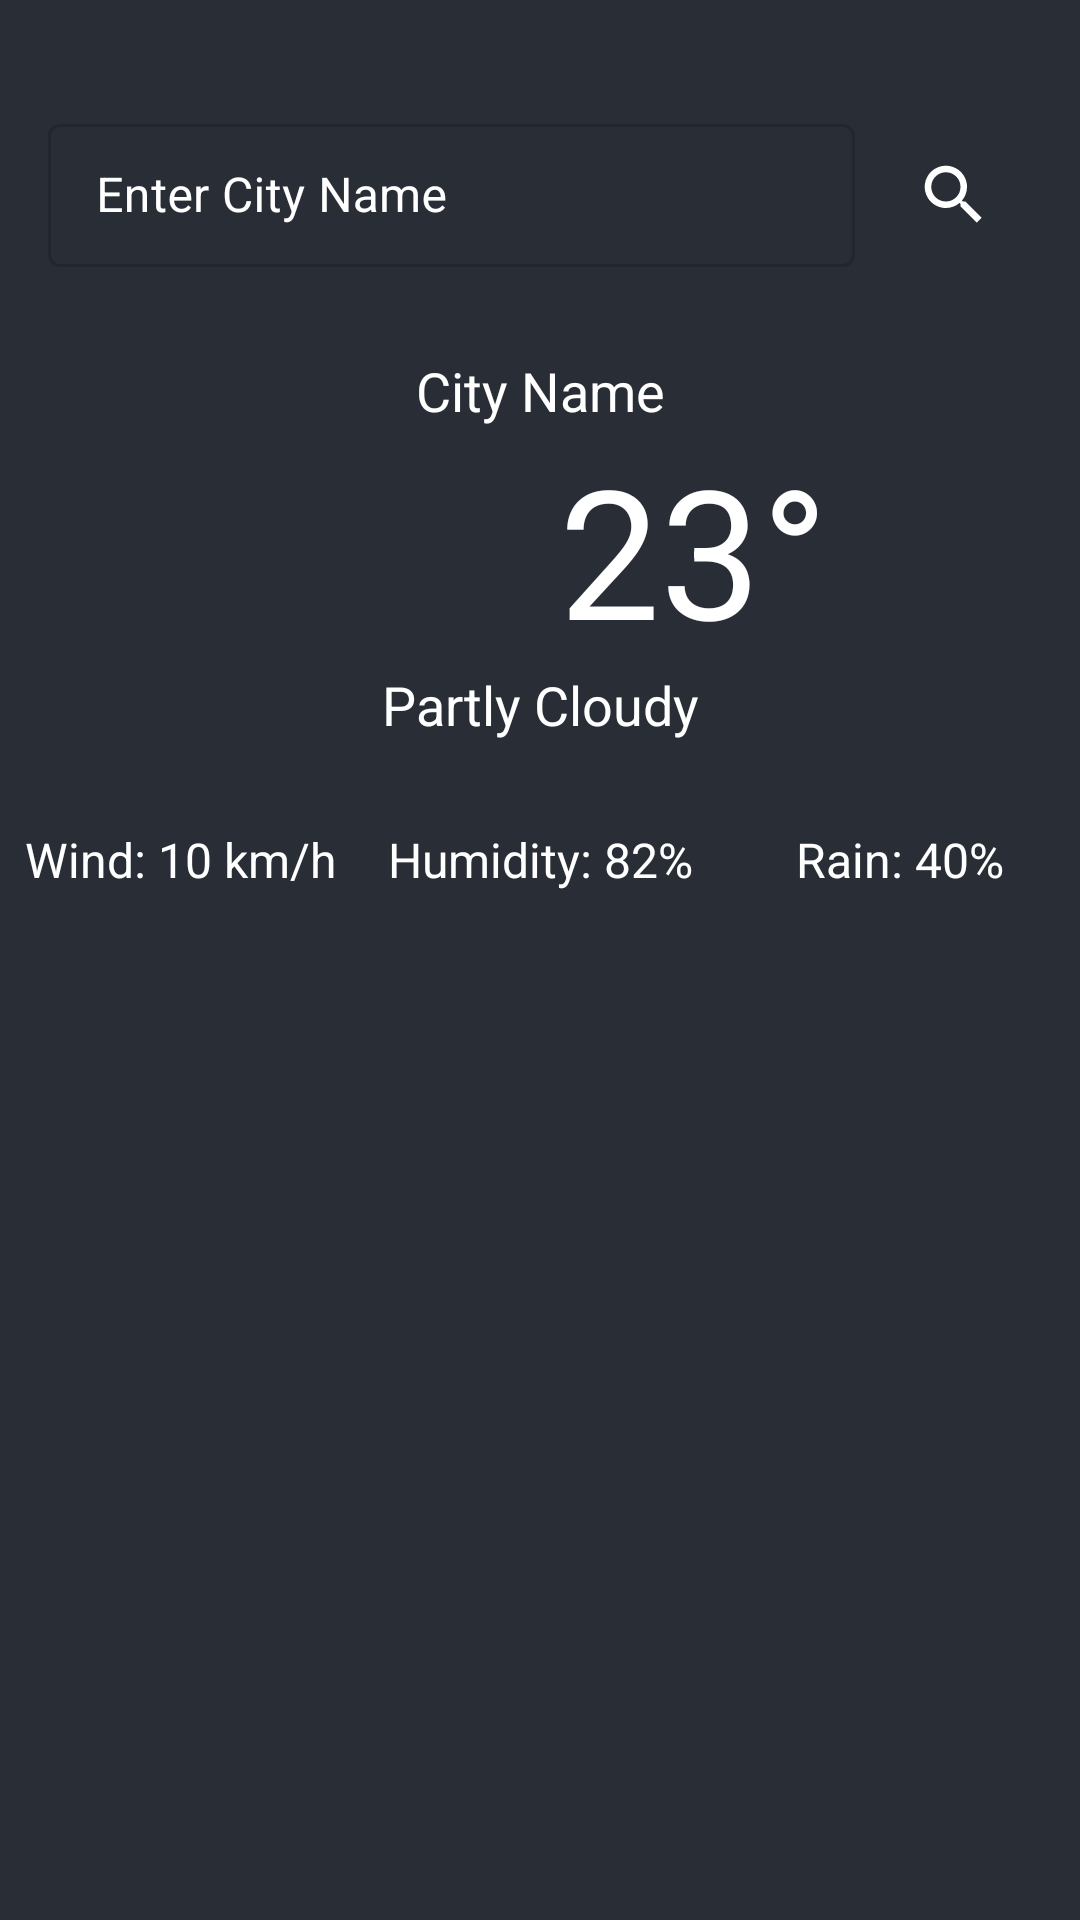

Named icons in this screenshot (1080 × 1920) and their bounding boxes, (x1, y1, x2, y2):
Search Bar: (924, 165, 982, 223)
